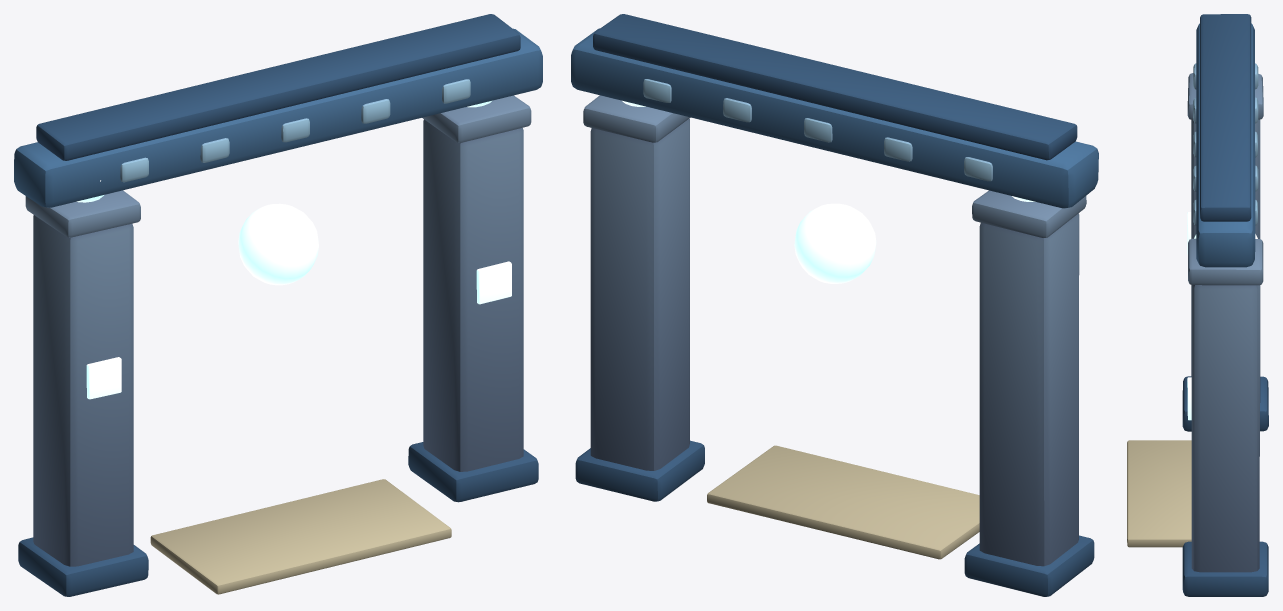
3 renders of one model, left to right at view 1: azimuth 30°, elevation 25°; view 2: azimuth 150°, elevation 25°; view 3: azimuth 270°, elevation 25°, orthographic. The views are drawn at different scales.
Parts seen in each view (by area): view 1: gate_ee7d8bbd; view 2: gate_ee7d8bbd; view 3: gate_ee7d8bbd.
Part boxes in pixels (x1,y1,x2,y2): gate_ee7d8bbd: (14,14,542,596); gate_ee7d8bbd: (571,14,1098,596); gate_ee7d8bbd: (1127,14,1268,596).
Size of the model in its own units: 5.13 by 4.37 by 1.44.
